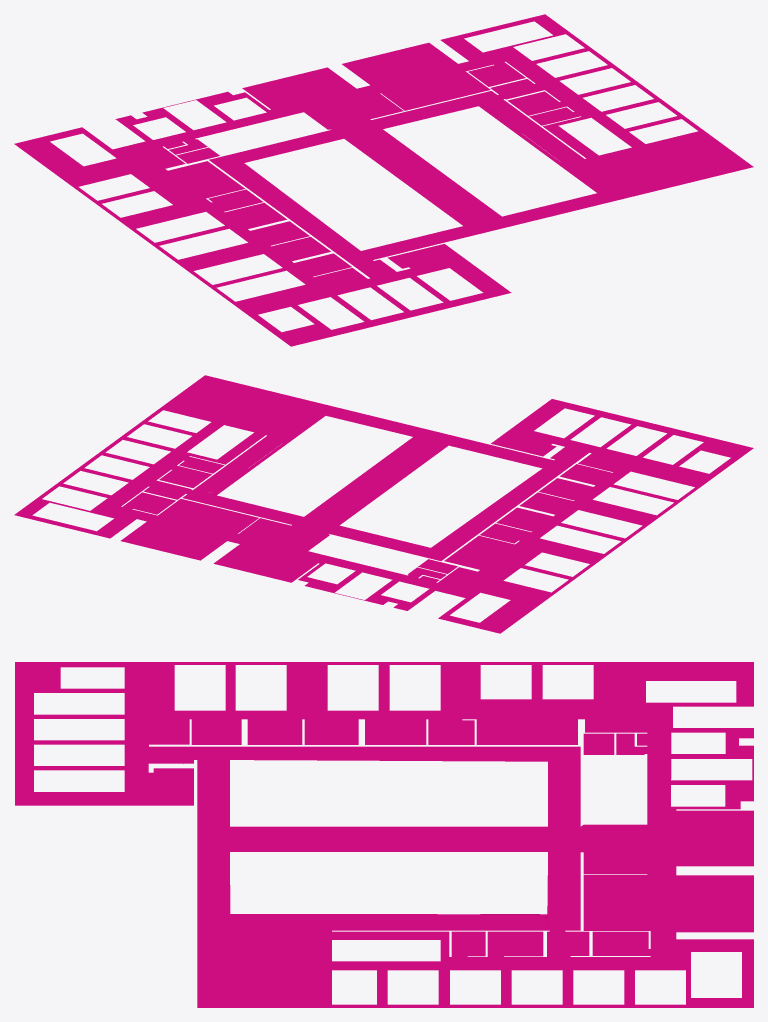
File: navmesh.glb
3 views of the same model, one above another, from view 1: azimuth 30°, elevation 25°; view 2: azimuth 150°, elevation 25°; view 3: azimuth 270°, elevation 25° (orthographic). The views are drawn at different scales.
Parts seen in each view (by area): view 1: navmesh; view 2: navmesh; view 3: navmesh.
Part boxes in pixels (bbox=[...]): navmesh: bbox=[14, 14, 753, 346]; navmesh: bbox=[14, 375, 753, 633]; navmesh: bbox=[15, 662, 753, 1007].
Size of the model in its own units: 13.11 by 0.00242 by 11.86.
